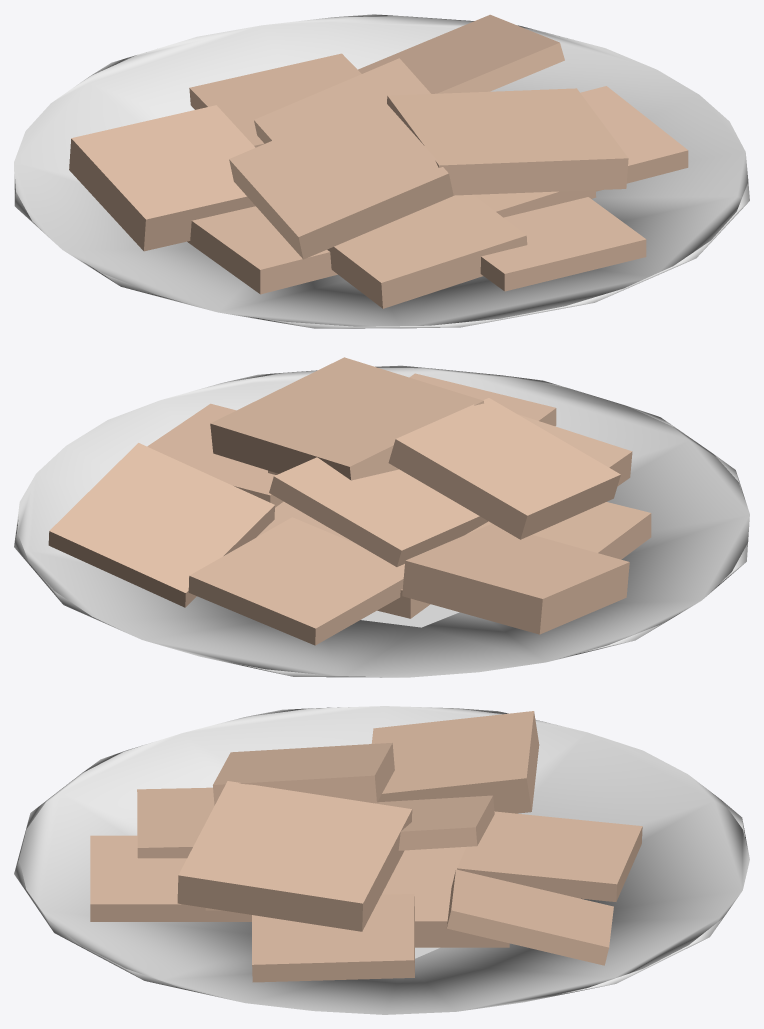
The model's file is carrotCake.glb.
The picture shows the model from 3 angles, top to bottom: view 1: azimuth 30°, elevation 25°; view 2: azimuth 150°, elevation 25°; view 3: azimuth 270°, elevation 25°; orthographic projection.
Parts seen in each view (by area): view 1: plate; view 2: plate; view 3: plate.
Part boxes in pixels (bbox=[...]): plate: bbox=[14, 14, 749, 328]; plate: bbox=[14, 357, 749, 677]; plate: bbox=[14, 706, 749, 1014].
Bounding box in the file's own units: 1.29 × 0.2988 × 1.3.
